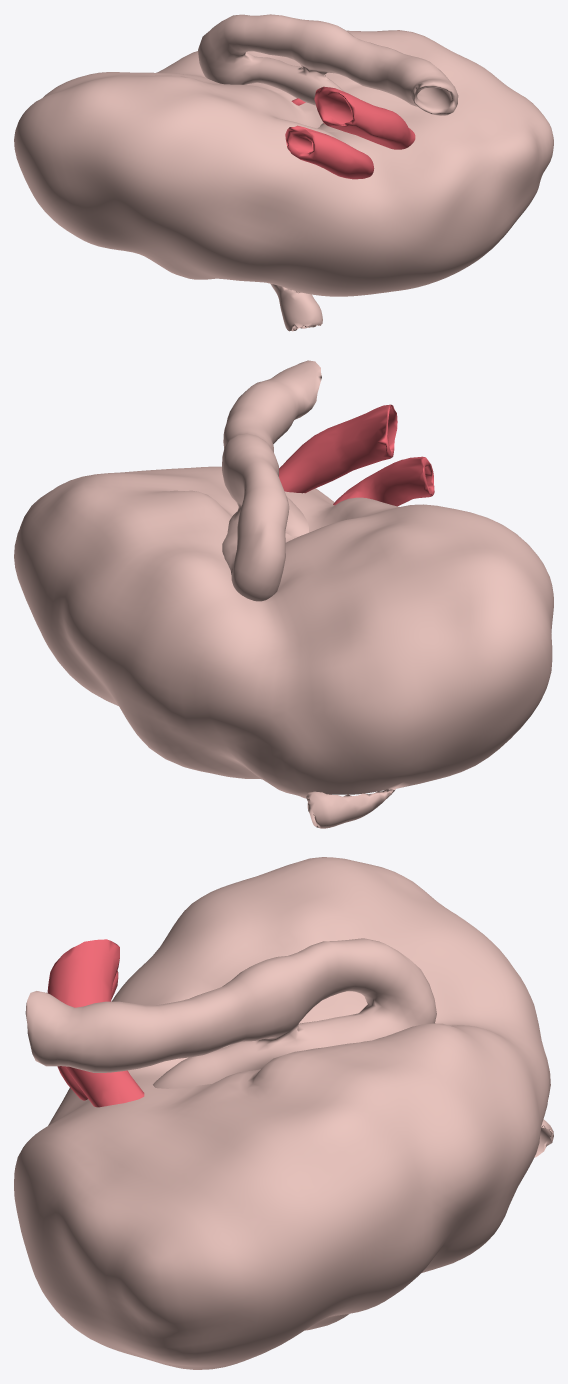
Rendered from nih_m_lymph_node-100.glb.
The picture shows the model from 3 angles, top to bottom: view 1: azimuth 30°, elevation 25°; view 2: azimuth 150°, elevation 25°; view 3: azimuth 270°, elevation 25°; orthographic projection. The views are drawn at different scales.
Visible parts, largest first — view 1: Yao_capsule_of_lymph_node, Yao_efferent_lymph_node, Yao_blood_vasculature, Yao_afferent_lymphatic_vessel; view 2: Yao_capsule_of_lymph_node, Yao_efferent_lymph_node, Yao_blood_vasculature, Yao_afferent_lymphatic_vessel; view 3: Yao_capsule_of_lymph_node, Yao_efferent_lymph_node, Yao_blood_vasculature.
Boxes of the visible parts, x1,y1,x2,y2 form: Yao_capsule_of_lymph_node: [14, 30, 553, 296]; Yao_efferent_lymph_node: [198, 14, 458, 132]; Yao_blood_vasculature: [285, 86, 415, 179]; Yao_afferent_lymphatic_vessel: [270, 283, 322, 331]; Yao_capsule_of_lymph_node: [14, 466, 553, 798]; Yao_efferent_lymph_node: [222, 360, 321, 601]; Yao_blood_vasculature: [279, 404, 434, 506]; Yao_afferent_lymphatic_vessel: [306, 788, 395, 828]; Yao_capsule_of_lymph_node: [14, 857, 550, 1369]; Yao_efferent_lymph_node: [25, 938, 436, 1088]; Yao_blood_vasculature: [47, 939, 144, 1107].
Size of the model in its own units: 0.0183 by 0.0107 by 0.013.
